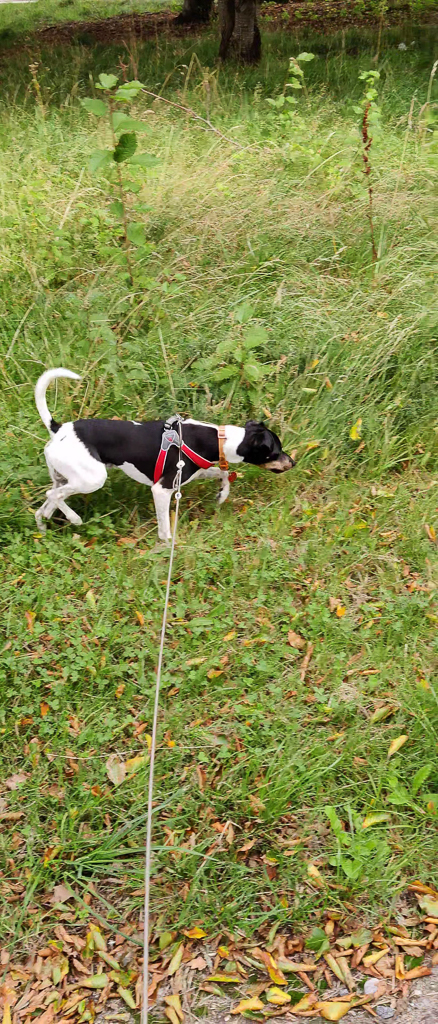Dog: (20, 360, 310, 553)
